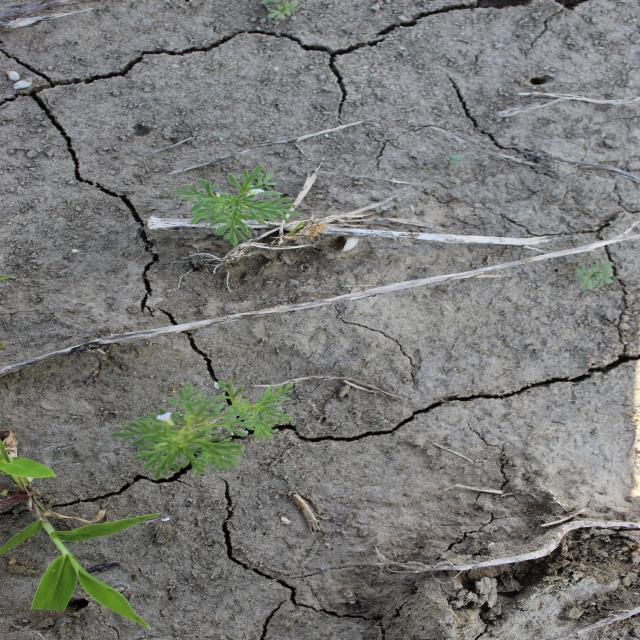Ragweed: (108, 378, 297, 481), (169, 163, 303, 246), (574, 259, 616, 294)
